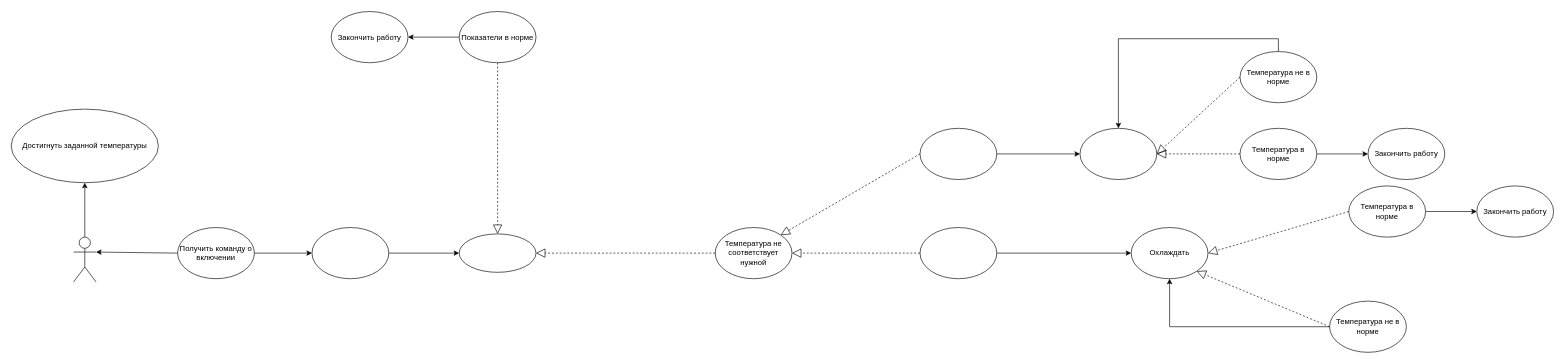
Image size: 1565x364. Some labels were removed from this diagram. Each missing label, with the box of its shape:
Греть: (1079, 128, 1157, 180)
Комфортный СКВ со сплит-системой: (73, 236, 96, 282)
Получить нужную температуру: (311, 227, 389, 279)
Считать показатели: (459, 233, 536, 272)
Температура выше нужной: (919, 128, 997, 180)
Температура ниже нужной: (919, 227, 997, 279)
